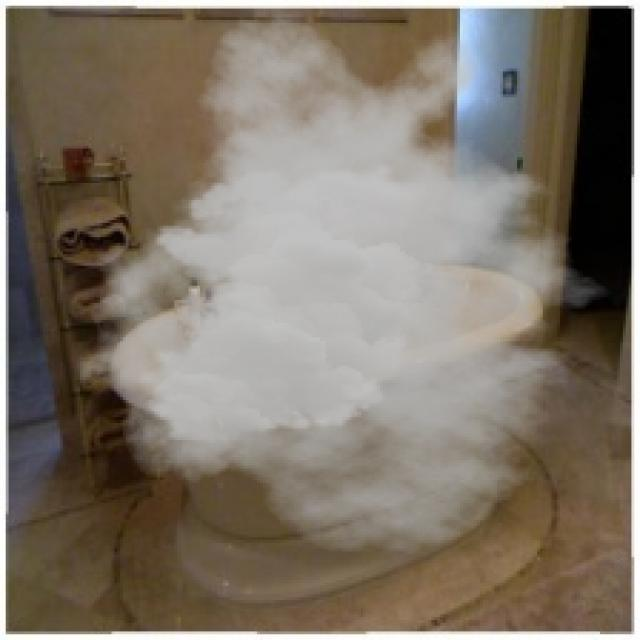Smoke: (75, 12, 634, 554)
